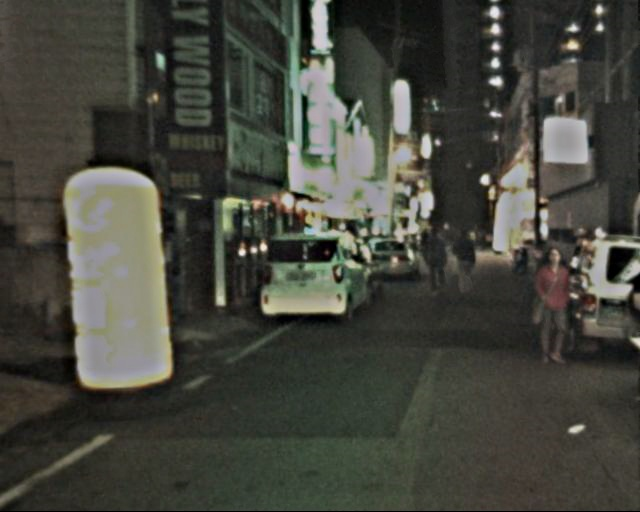person: (528, 249, 576, 365), (450, 230, 485, 302), (420, 229, 454, 300)
